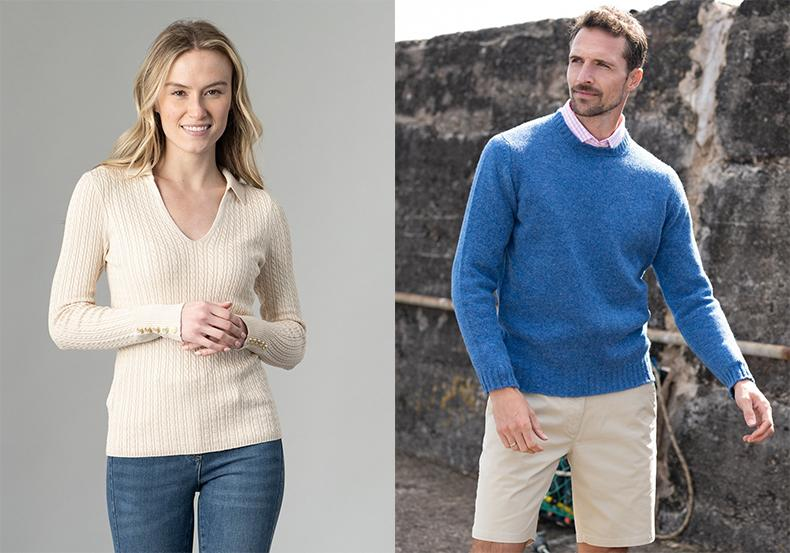Shorts: (468, 378, 660, 549)
long sleeve shirt: (43, 157, 311, 460)
sweater: (448, 108, 758, 399)
trousers: (103, 433, 289, 553)
